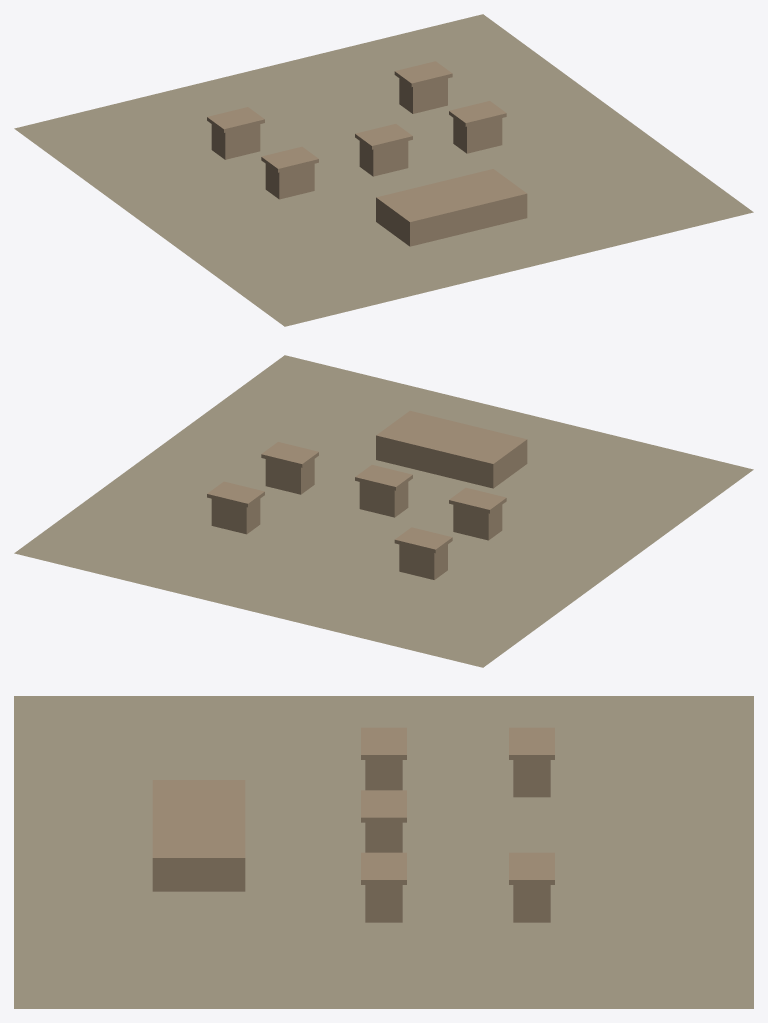
Rendered from marketplace.glb.
The picture shows the model from 3 angles, top to bottom: view 1: azimuth 30°, elevation 25°; view 2: azimuth 150°, elevation 25°; view 3: azimuth 270°, elevation 25°; orthographic projection. The views are drawn at different scales.
Visible parts, largest first — view 1: Marketplace_Ground, Marketplace_Platform; view 2: Marketplace_Ground, Marketplace_Platform; view 3: Marketplace_Ground, Marketplace_Platform.
Part boxes in pixels (x1=…): Marketplace_Ground: x1=14, y1=14, x2=753, y2=326; Marketplace_Platform: x1=207, y1=61, x2=527, y2=246; Marketplace_Ground: x1=14, y1=355, x2=753, y2=667; Marketplace_Platform: x1=207, y1=410, x2=527, y2=579; Marketplace_Ground: x1=14, y1=696, x2=753, y2=1008; Marketplace_Platform: x1=152, y1=727, x2=554, y2=922.
Size of the model in its own units: 40 by 2.9 by 40.
